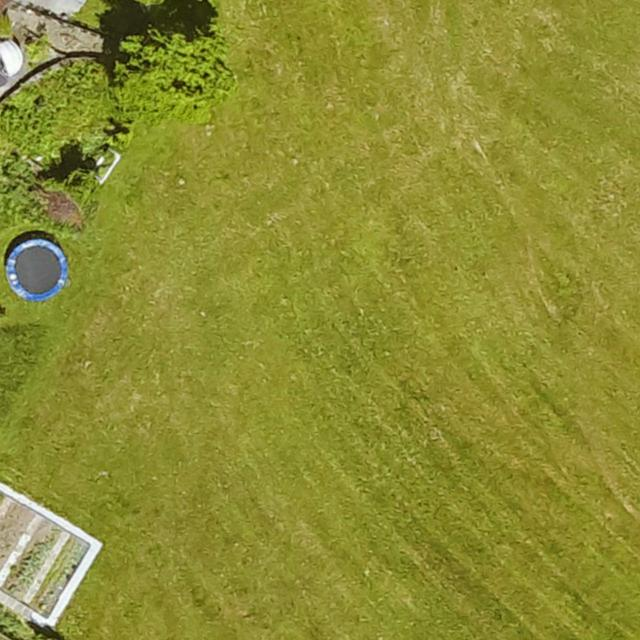tree: (113, 31, 233, 123)
